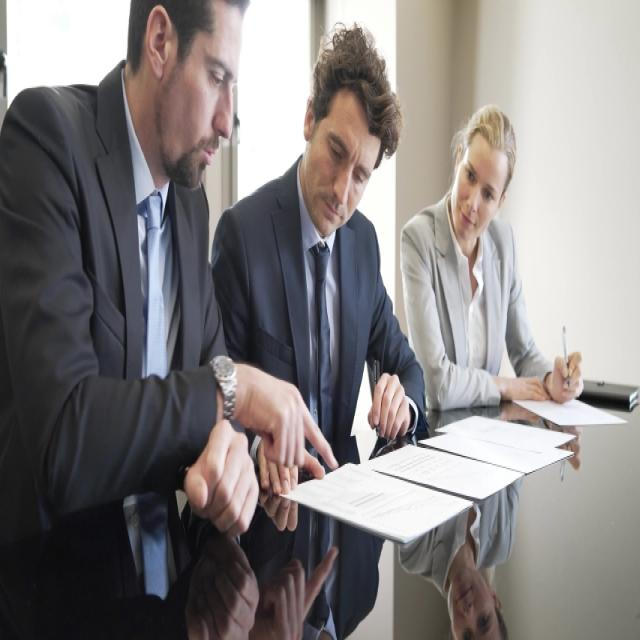adult: (1, 0, 341, 533), (210, 28, 426, 501), (398, 105, 585, 422)
